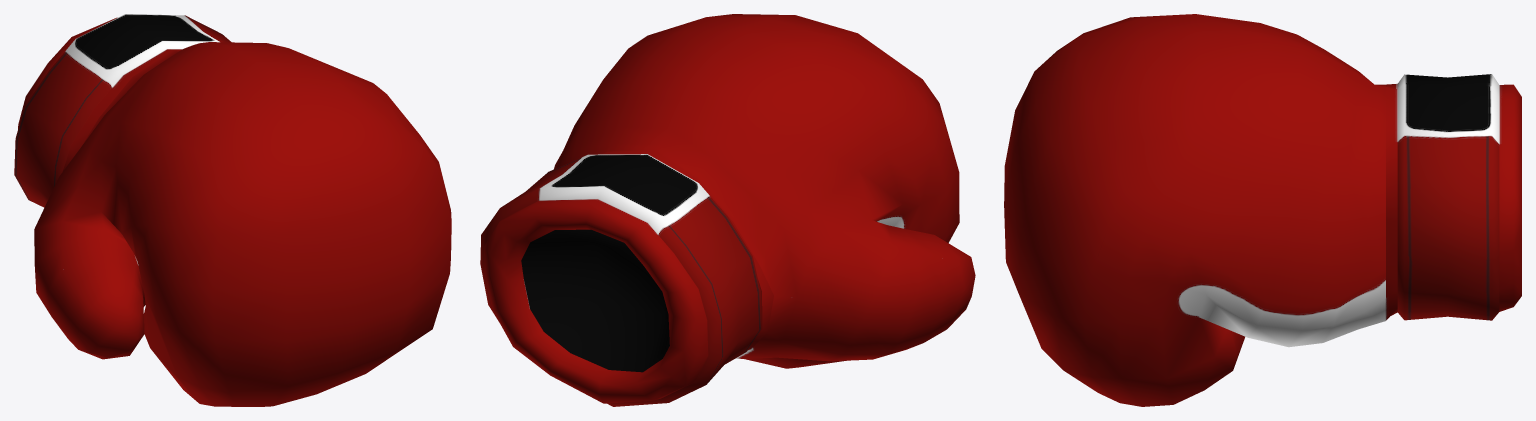
File: BoxingGlove.fbx
3 views of the same model, side by side, from view 1: azimuth 30°, elevation 25°; view 2: azimuth 150°, elevation 25°; view 3: azimuth 270°, elevation 25° (orthographic). The views are drawn at different scales.
Parts seen in each view (by area): view 1: Meke_Gloves; view 2: Meke_Gloves; view 3: Meke_Gloves.
Boxes of the visible parts, box(x1,y1,x2,y2) form: Meke_Gloves: box(14, 14, 451, 406); Meke_Gloves: box(480, 14, 975, 406); Meke_Gloves: box(1004, 14, 1521, 406).
Bounding box in the file's own units: 49.18 × 41.92 × 56.44.
